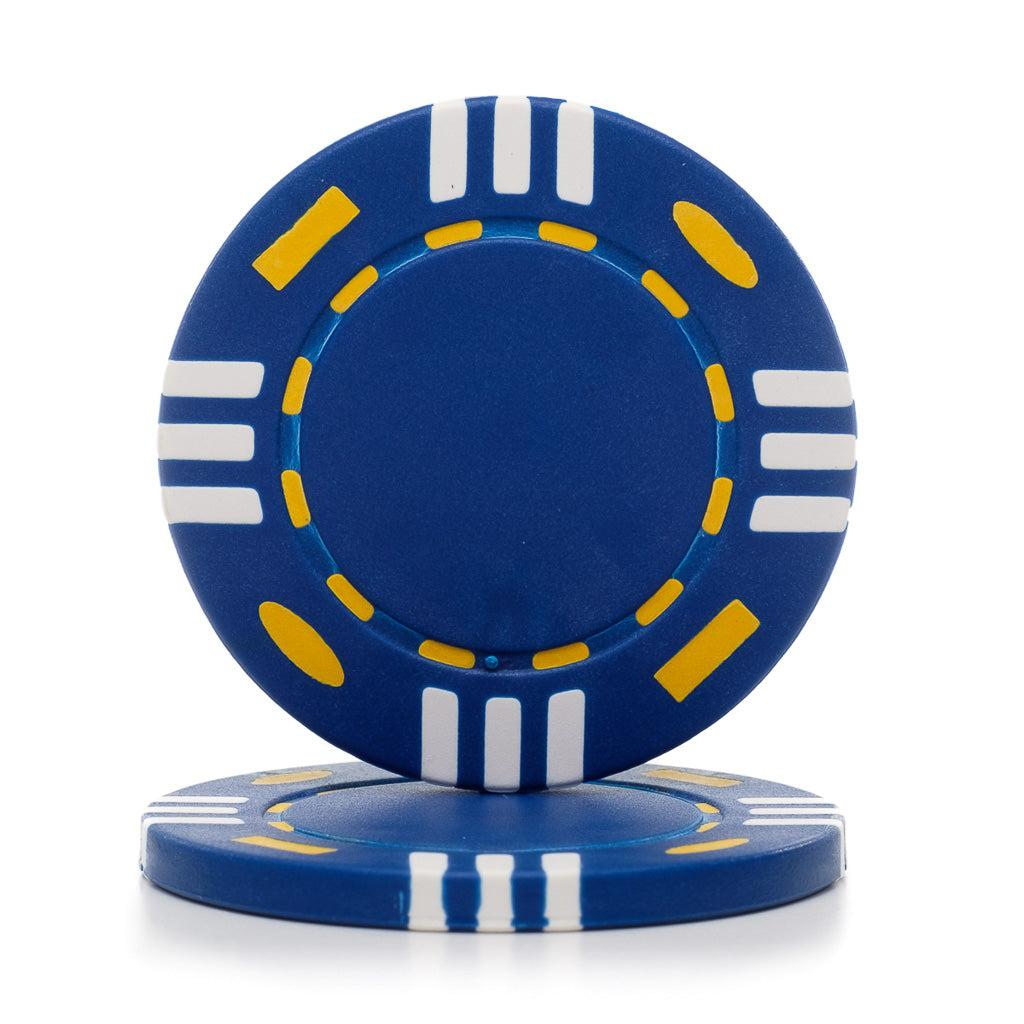chip-blue: (158, 96, 856, 789), (140, 762, 846, 931)
